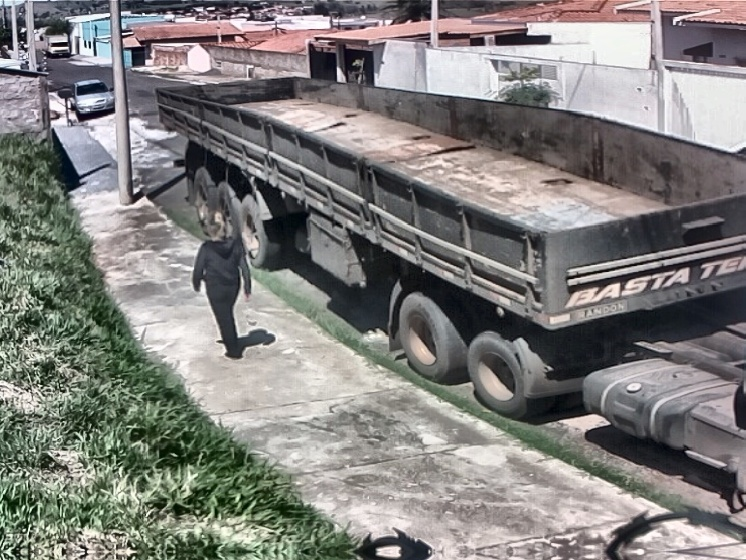person: (191, 205, 260, 360)
